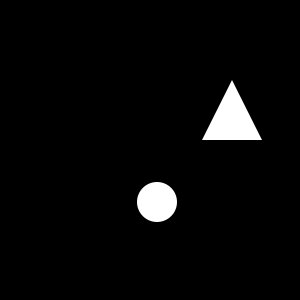rectangle: (137, 182, 177, 222)
triangle: (202, 80, 262, 140)
